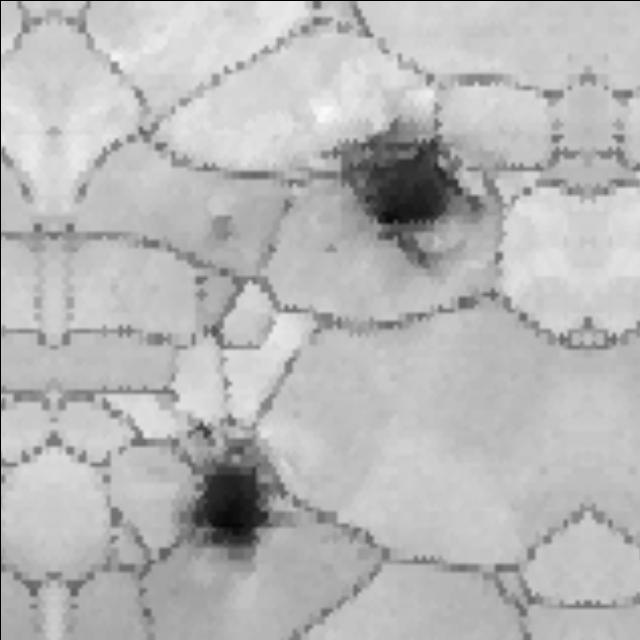good_void: (307, 65, 532, 303), (147, 420, 327, 605), (203, 207, 237, 252), (191, 418, 215, 449), (315, 234, 341, 258)
